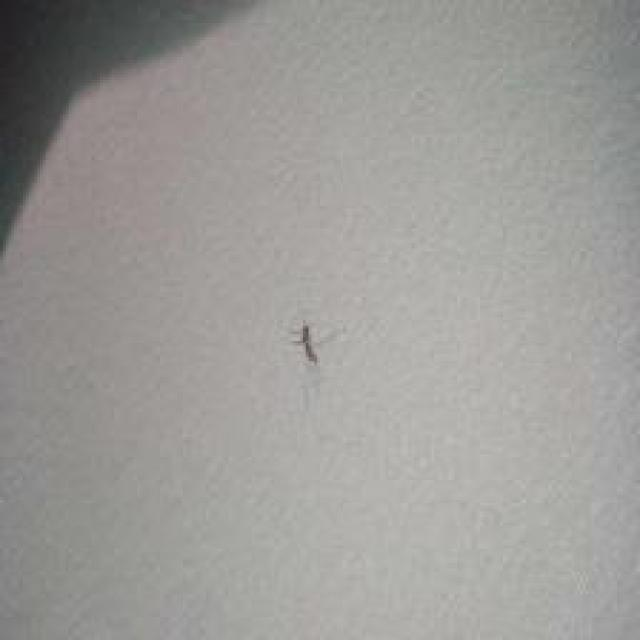Culex: (291, 320, 320, 366)
